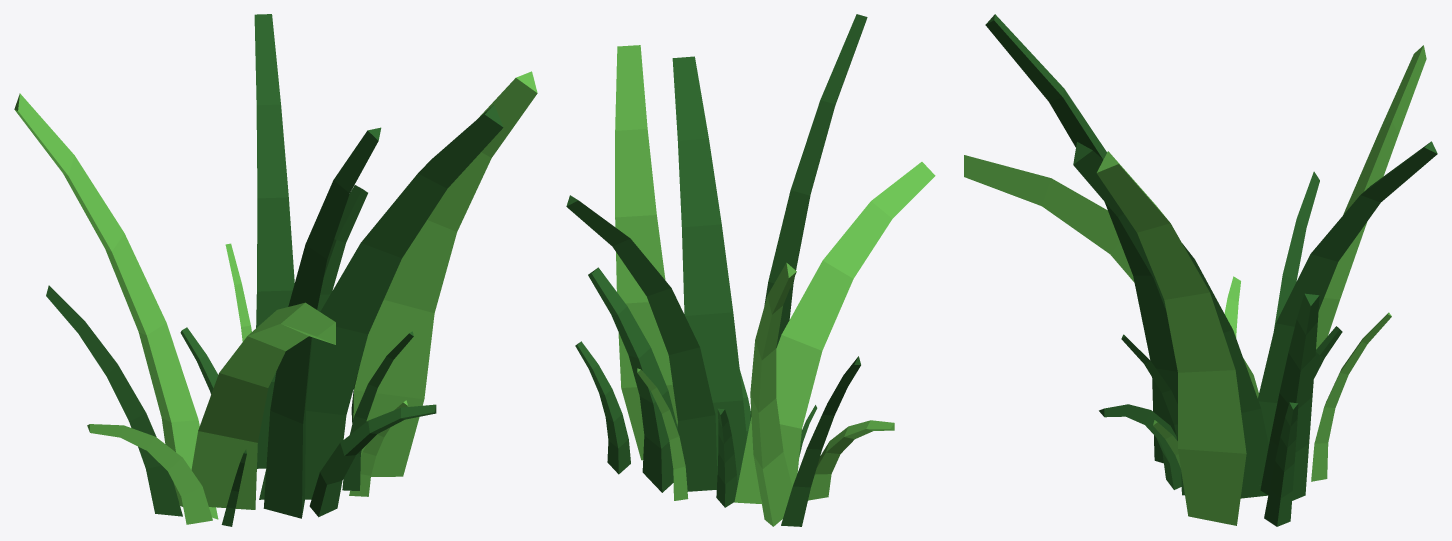
File: Cesped1.fbx
3 renders of one model, left to right at view 1: azimuth 30°, elevation 25°; view 2: azimuth 150°, elevation 25°; view 3: azimuth 270°, elevation 25°, orthographic. The views are drawn at different scales.
Parts seen in each view (by area): view 1: Cesped3; view 2: Cesped3; view 3: Cesped3.
Boxes of the visible parts, x1,y1,x2,y2 form: Cesped3: (14,14,537,526); Cesped3: (566,14,935,526); Cesped3: (964,14,1437,526).
Bounding box in the file's own units: 130 × 157 × 143.
